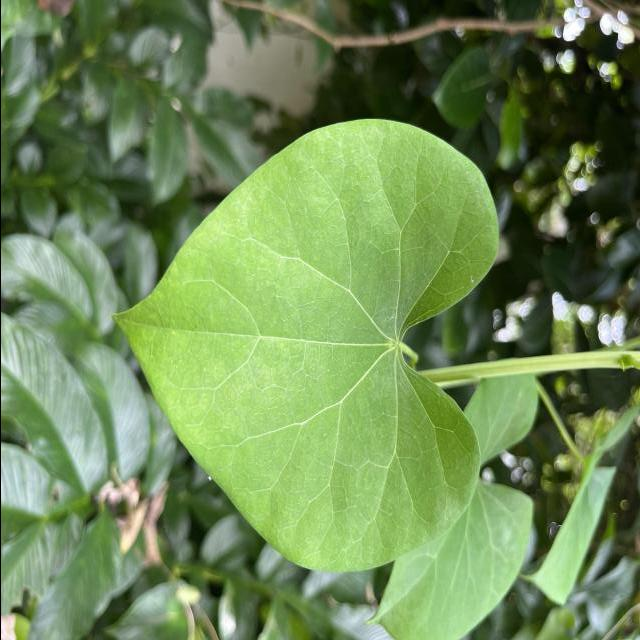Tinospora cordifolia: (103, 111, 510, 578)
